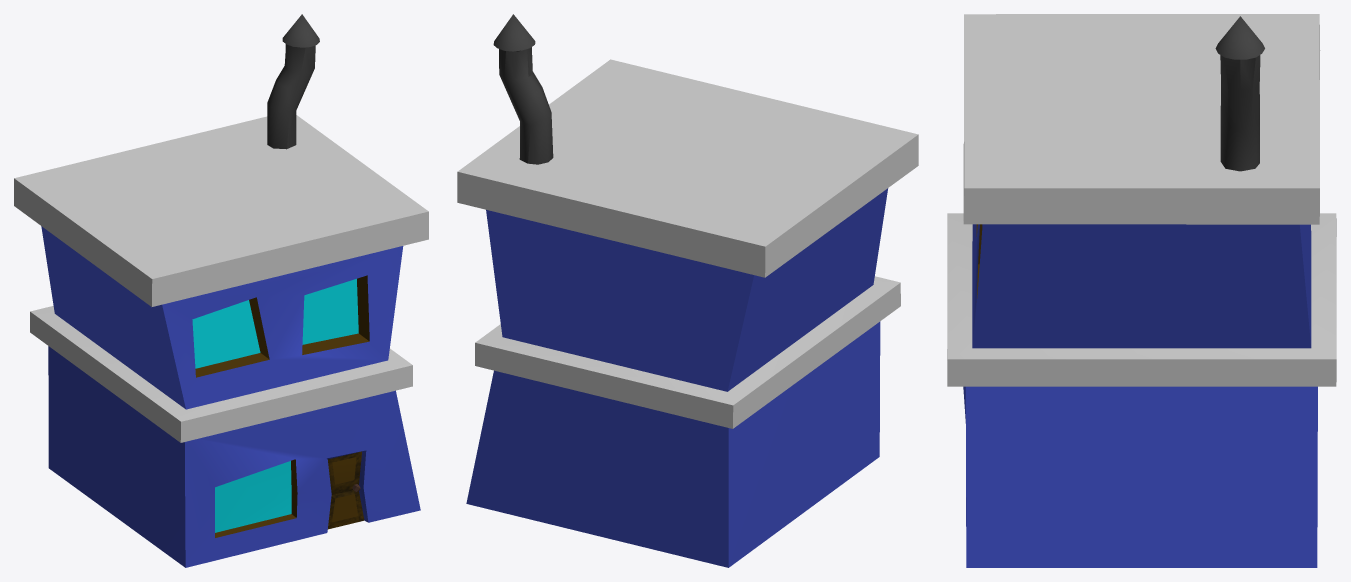
The model's file is PredioPequeno-AzulEscuroLOD1.fbx.
3 views of the same model, side by side, from view 1: azimuth 30°, elevation 25°; view 2: azimuth 150°, elevation 25°; view 3: azimuth 270°, elevation 25° (orthographic). The views are drawn at different scales.
Parts seen in each view (by area): view 1: Predio2AndaresLOD1; view 2: Predio2AndaresLOD1; view 3: Predio2AndaresLOD1.
Part boxes in pixels (x1=…): Predio2AndaresLOD1: x1=14, y1=14, x2=428, y2=567; Predio2AndaresLOD1: x1=457, y1=14, x2=918, y2=567; Predio2AndaresLOD1: x1=947, y1=14, x2=1336, y2=567.
Bounding box in the file's own units: 712 × 1035 × 672.
